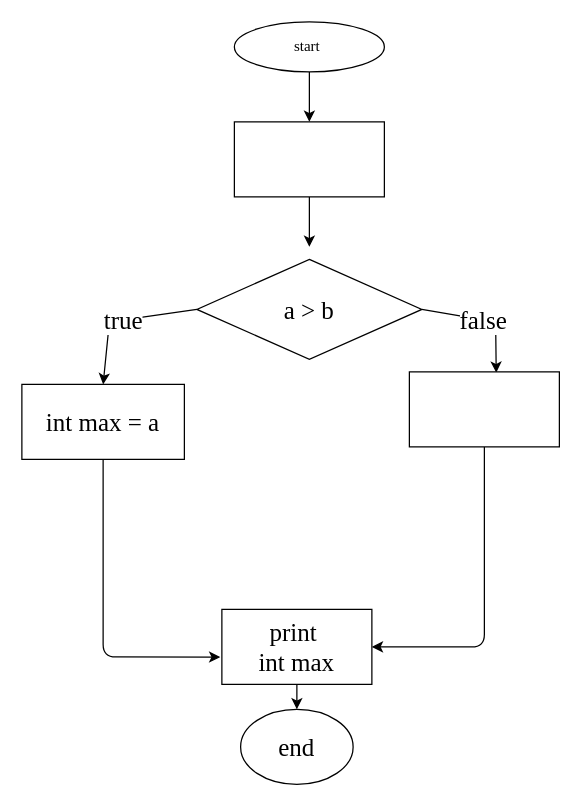
Image size: 581x806. Some labels were removed from this diagram. Here are the shapes that lost their labels. From the top down, the box of each, then its label:
(233, 121, 384, 197): int max = 0 int a = 5 int b = 7
(408, 371, 559, 447): int max = b
